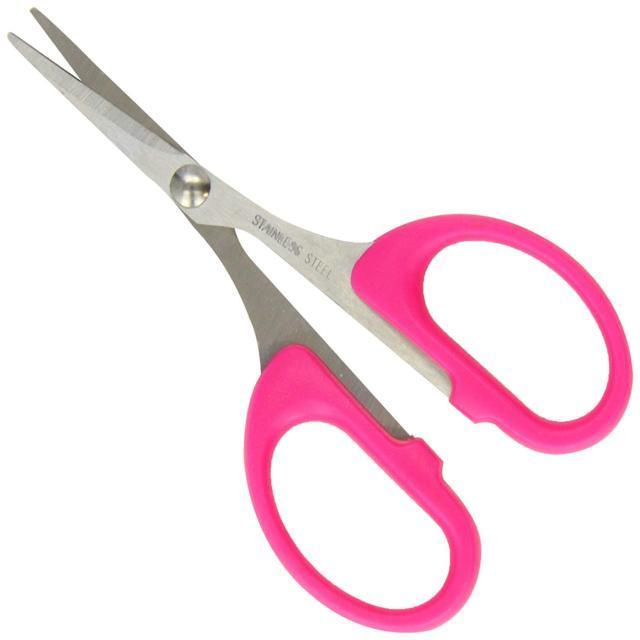scissor: (11, 6, 630, 632)
